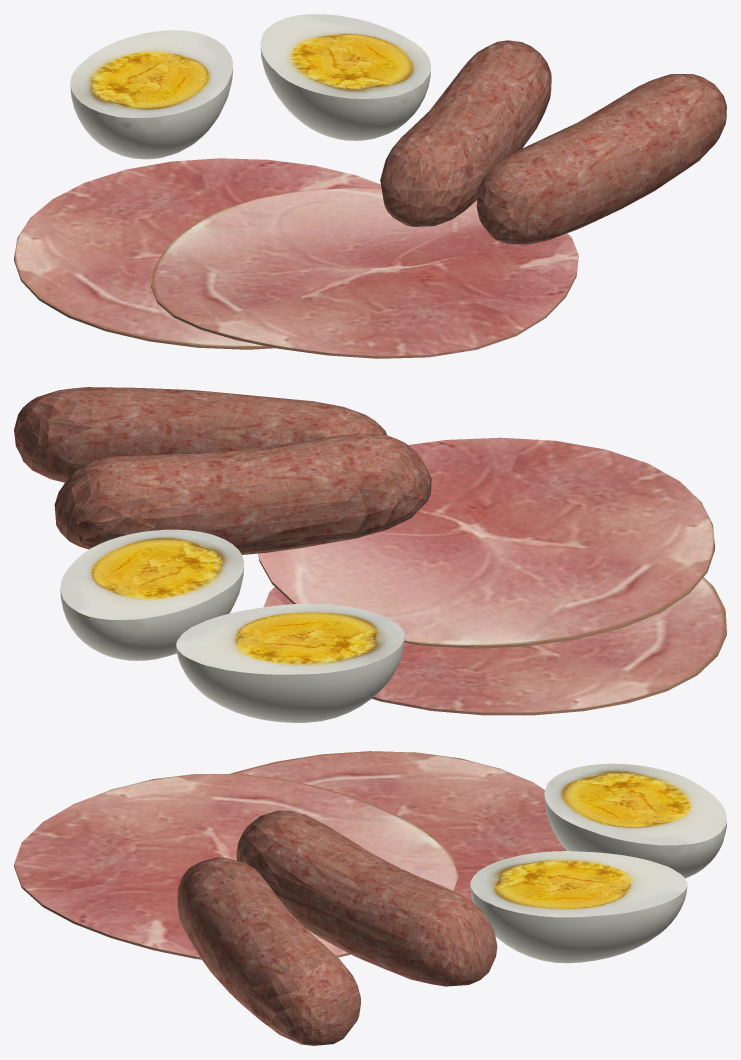
File: food dish 1.FBX
The picture shows the model from 3 angles, top to bottom: view 1: azimuth 30°, elevation 25°; view 2: azimuth 150°, elevation 25°; view 3: azimuth 270°, elevation 25°; orthographic projection. The views are drawn at different scales.
Parts seen in each view (by area): view 1: ham, Sausages, hard boiled egg, hard boiled egg 2; view 2: ham, Sausages, hard boiled egg 2, hard boiled egg; view 3: ham, Sausages, hard boiled egg, hard boiled egg 2.
Boxes of the visible parts, x1,y1,x2,y2 form: ham: [14, 158, 578, 358]; Sausages: [380, 40, 726, 244]; hard boiled egg: [260, 14, 430, 140]; hard boiled egg 2: [70, 30, 232, 159]; ham: [258, 437, 726, 715]; Sausages: [14, 387, 431, 554]; hard boiled egg 2: [176, 603, 404, 722]; hard boiled egg: [60, 529, 243, 660]; ham: [14, 751, 566, 959]; Sausages: [177, 810, 497, 1045]; hard boiled egg: [470, 851, 687, 963]; hard boiled egg 2: [544, 763, 726, 878].
Size of the model in its own units: 21.17 by 3.35 by 19.61.
Materials: 3 (3 with a texture image).
